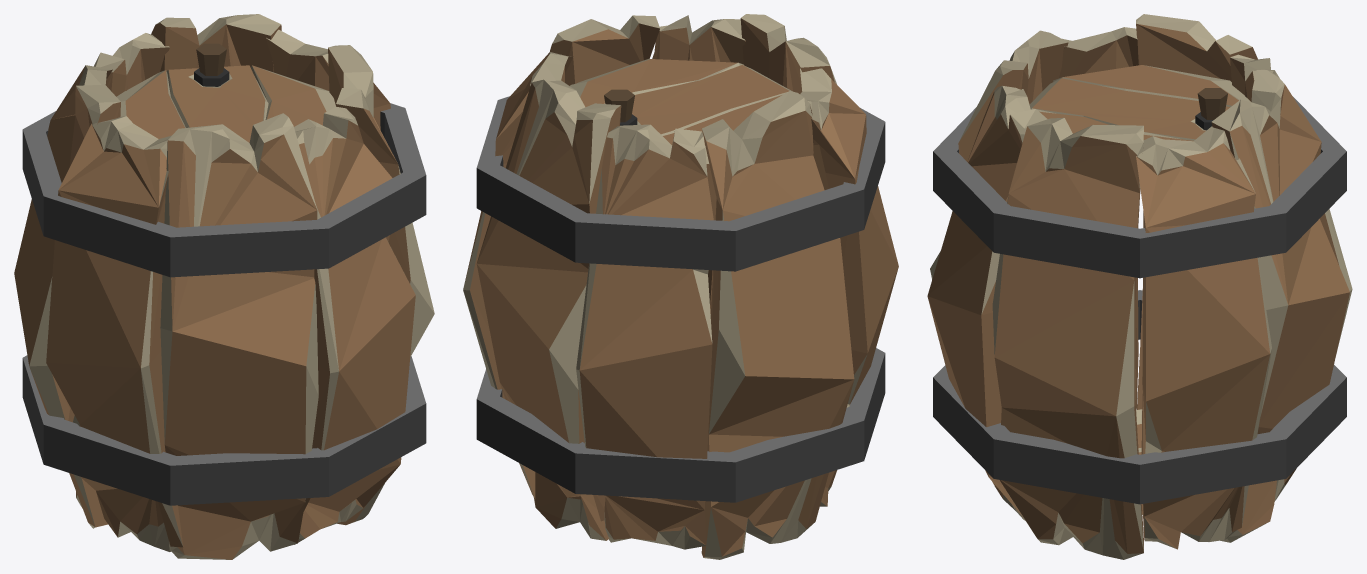
Rendered from Lagerfass_02.FBX.
3 views of the same model, side by side, from view 1: azimuth 30°, elevation 25°; view 2: azimuth 150°, elevation 25°; view 3: azimuth 270°, elevation 25° (orthographic). The views are drawn at different scales.
Visible parts, largest first — view 1: Lagerfass_02; view 2: Lagerfass_02; view 3: Lagerfass_02.
Boxes of the visible parts, x1=… form: Lagerfass_02: x1=14, y1=14, x2=434, y2=559; Lagerfass_02: x1=463, y1=14, x2=898, y2=559; Lagerfass_02: x1=927, y1=14, x2=1352, y2=559.
Size of the model in its own units: 1.54 by 1.75 by 1.56.
